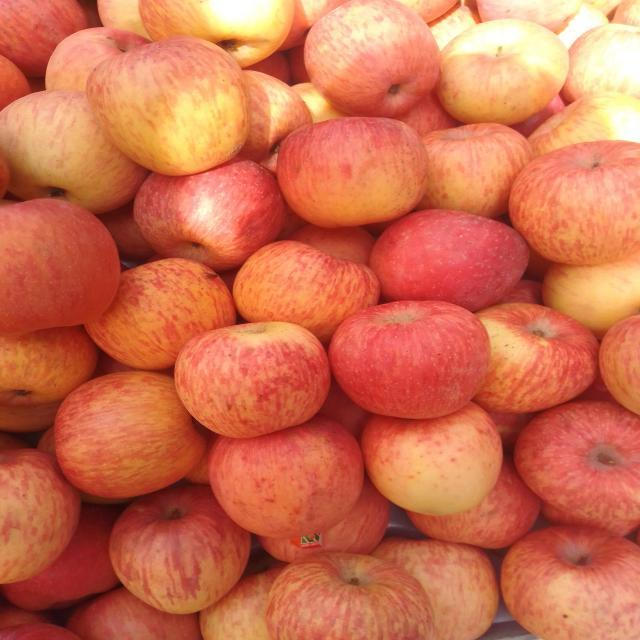Fresh Apple: (91, 45, 252, 170), (122, 157, 290, 270), (334, 302, 488, 420), (57, 375, 190, 508), (162, 328, 328, 432), (493, 528, 640, 640), (278, 119, 434, 224), (203, 438, 365, 538), (93, 260, 237, 368), (0, 206, 113, 338), (460, 295, 595, 405), (515, 400, 640, 517), (363, 416, 502, 516), (516, 145, 640, 256), (436, 22, 566, 126), (383, 210, 520, 308), (297, 10, 438, 103), (255, 247, 377, 335)
